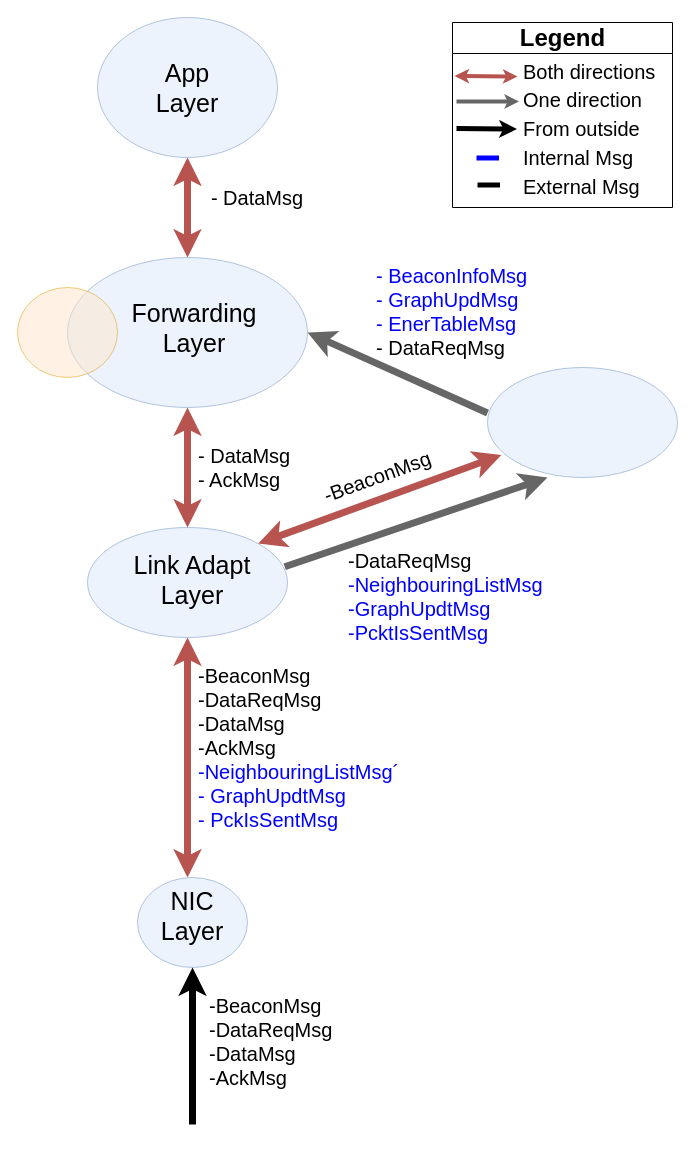
This 695x1153 diagram has some shape labels left out. The shapes that lost their labels are listed below. From the top down, each one's centre as x and y in pixels, then its label:
the point at 67,332: Storage
the point at 582,422: Neighboring Layer
